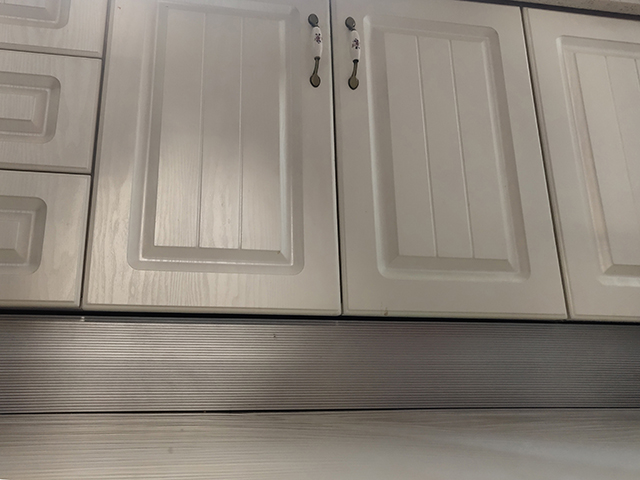cabinet: (1, 1, 640, 415)
